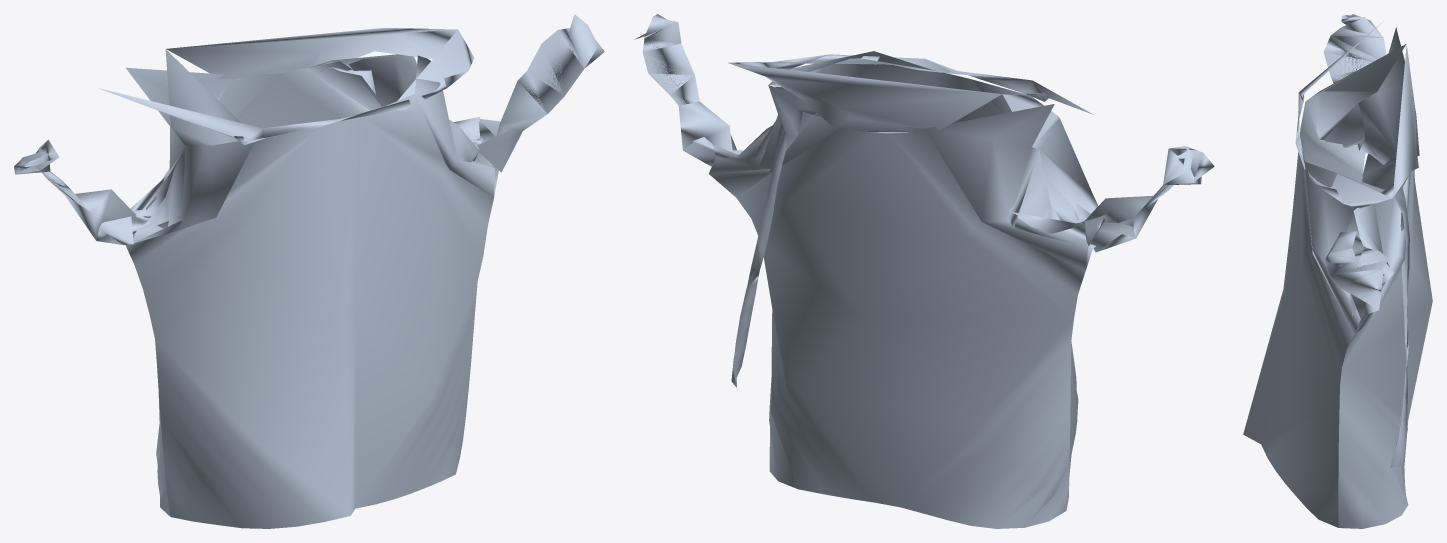
File: frame_045.glb
3 views of the same model, side by side, from view 1: azimuth 30°, elevation 25°; view 2: azimuth 150°, elevation 25°; view 3: azimuth 270°, elevation 25° (orthographic). The views are drawn at different scales.
Parts seen in each view (by area): view 1: panel.front, panel.back, panel.neck_band, panel.sleeve.right, panel.sleeve.left; view 2: panel.back, panel.neck_band, panel.front, panel.sleeve.right, panel.sleeve.left; view 3: panel.front, panel.back, panel.neck_band, panel.sleeve.right, panel.sleeve.left.
Boxes of the visible parts, bbox=[...] form: panel.front: bbox=[125, 49, 494, 528]; panel.back: bbox=[126, 55, 498, 516]; panel.neck_band: bbox=[98, 28, 474, 145]; panel.sleeve.right: bbox=[477, 14, 604, 172]; panel.sleeve.left: bbox=[14, 139, 137, 245]; panel.back: bbox=[708, 86, 1087, 528]; panel.neck_band: bbox=[728, 54, 1093, 391]; panel.front: bbox=[769, 51, 1098, 508]; panel.sleeve.right: bbox=[634, 14, 736, 166]; panel.sleeve.left: bbox=[1082, 146, 1214, 252]; panel.front: bbox=[1243, 44, 1406, 527]; panel.back: bbox=[1338, 27, 1432, 528]; panel.neck_band: bbox=[1295, 21, 1418, 467]; panel.sleeve.right: bbox=[1324, 231, 1388, 318]; panel.sleeve.left: bbox=[1323, 14, 1386, 145].
Size of the model in its own units: 1.04 by 0.7739 by 0.3498.
